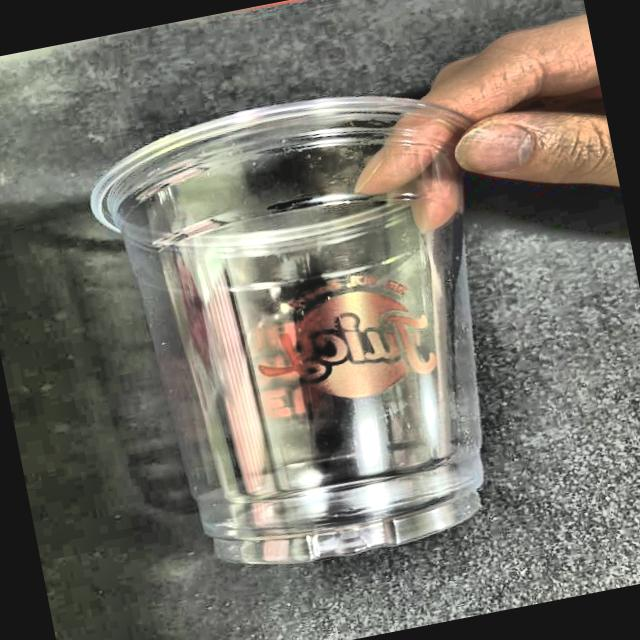plastic cup: (70, 63, 558, 598)
